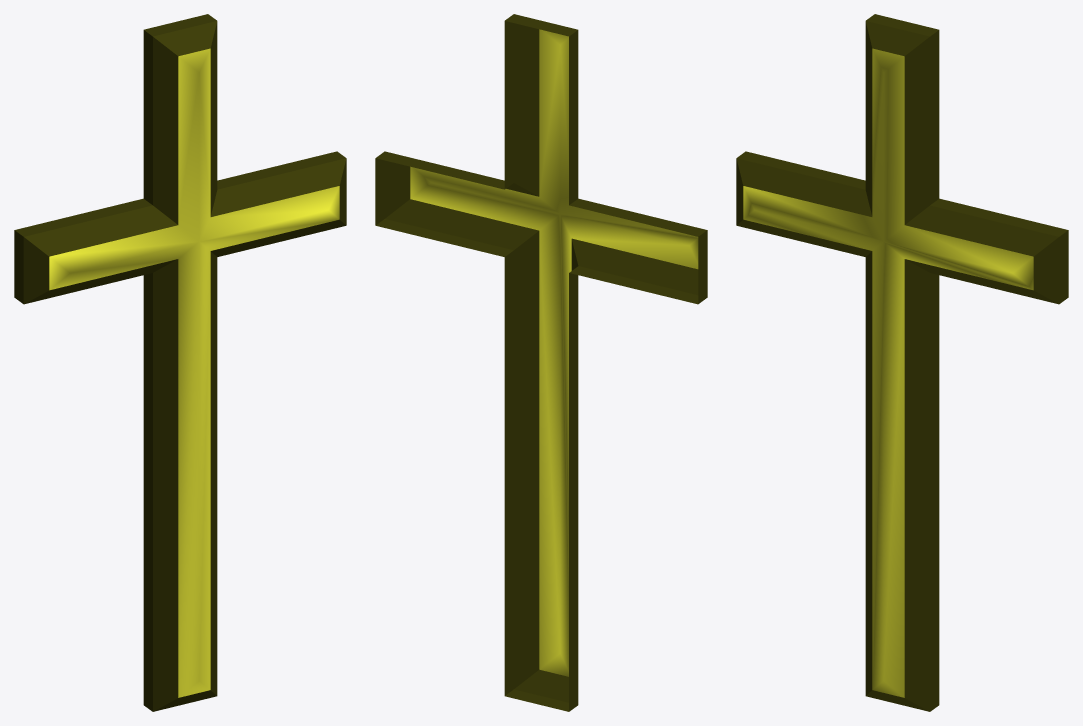
Rendered from savecross.obj.
The picture shows the model from 3 angles, left to right: view 1: azimuth 30°, elevation 25°; view 2: azimuth 150°, elevation 25°; view 3: azimuth 330°, elevation 25°; orthographic projection.
Visible parts, largest first — view 1: cross; view 2: cross; view 3: cross.
Part boxes in pixels (left/top/right/bottom): cross: left=14, top=14, right=346, bottom=711; cross: left=375, top=14, right=707, bottom=711; cross: left=736, top=14, right=1068, bottom=711.
Size of the model in its own units: 0.5 by 1 by 0.063.
